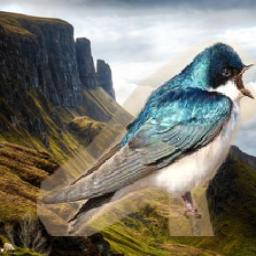Swallow: (37, 38, 256, 236)
